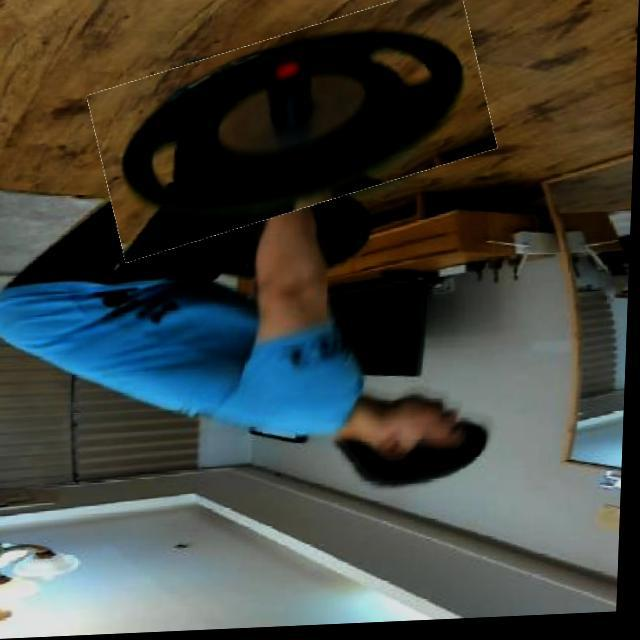barbell: (93, 9, 496, 244)
